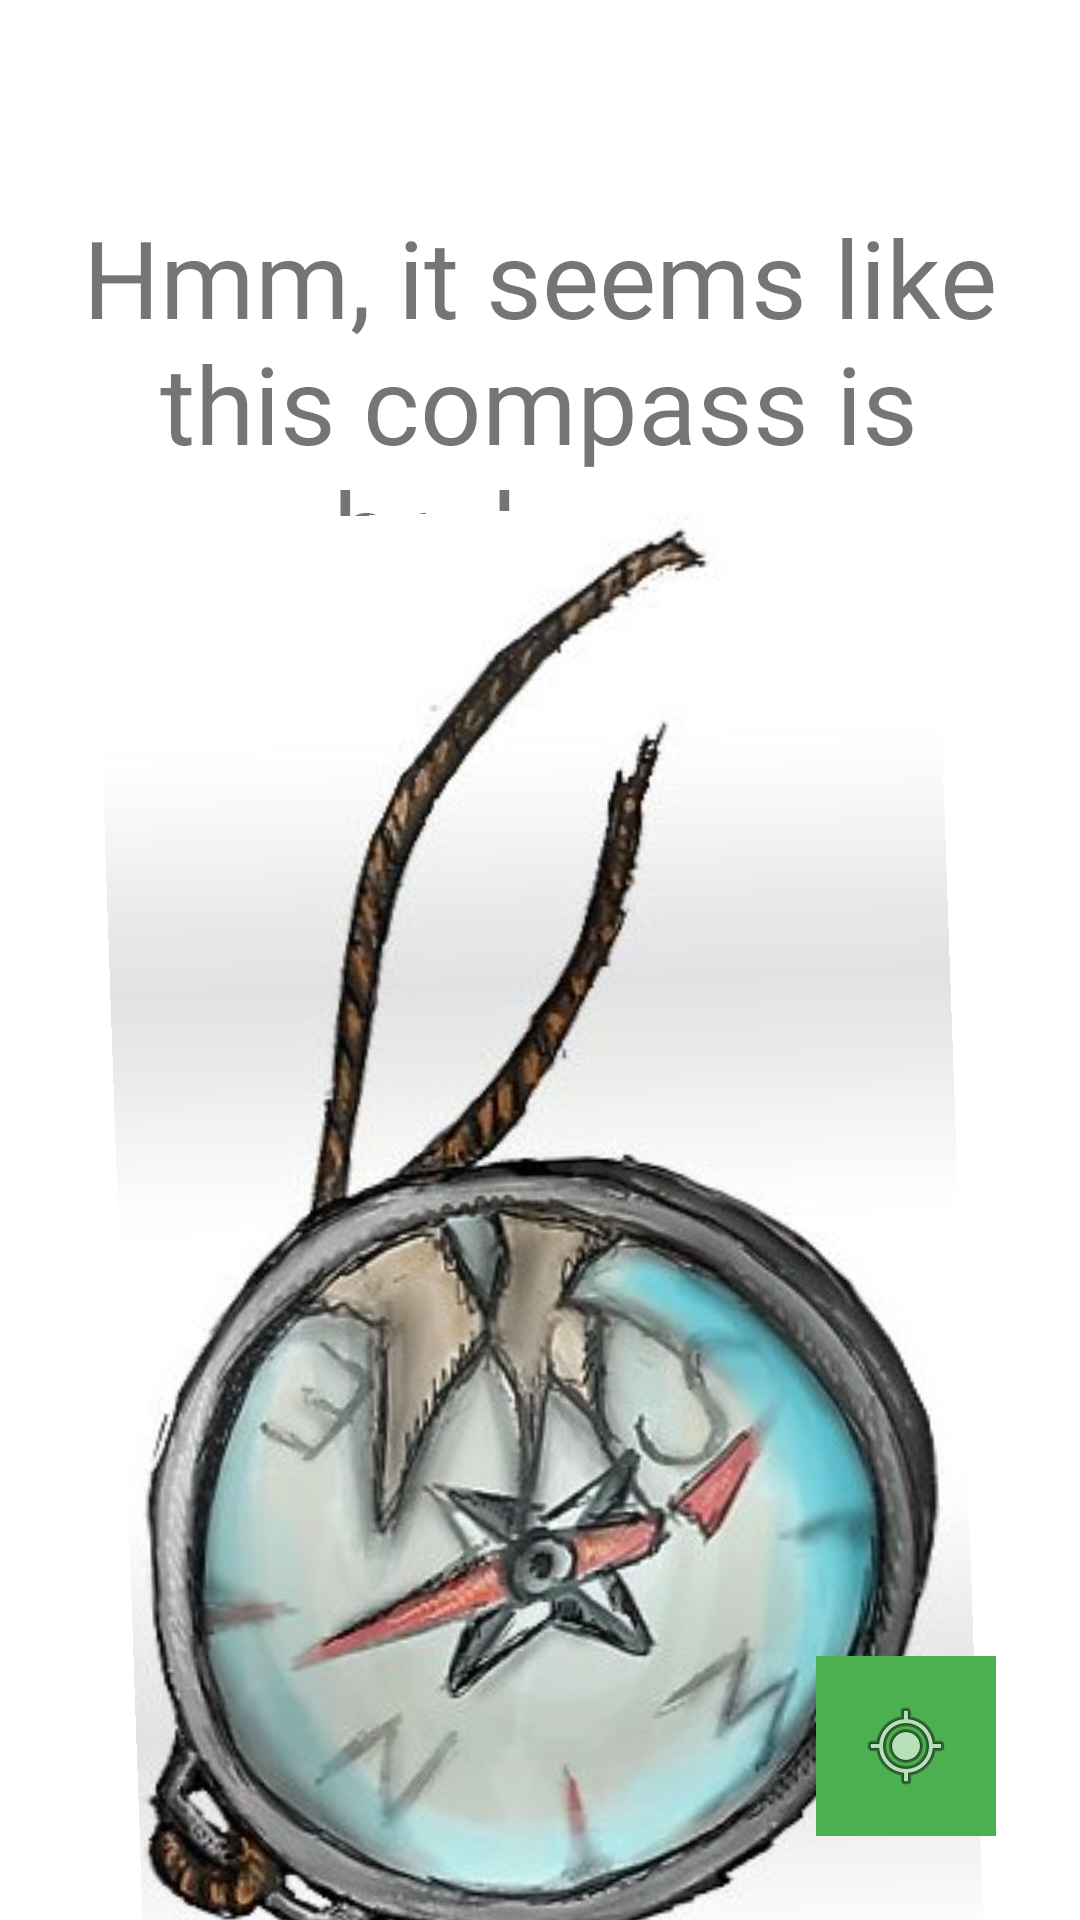

Named icons in this screenshot (1080w x 1920h) and their centers, (x,y):
mylocation: (906,1746)
